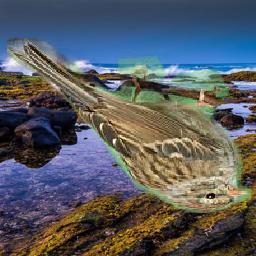Sparrow: (7, 39, 251, 214)
